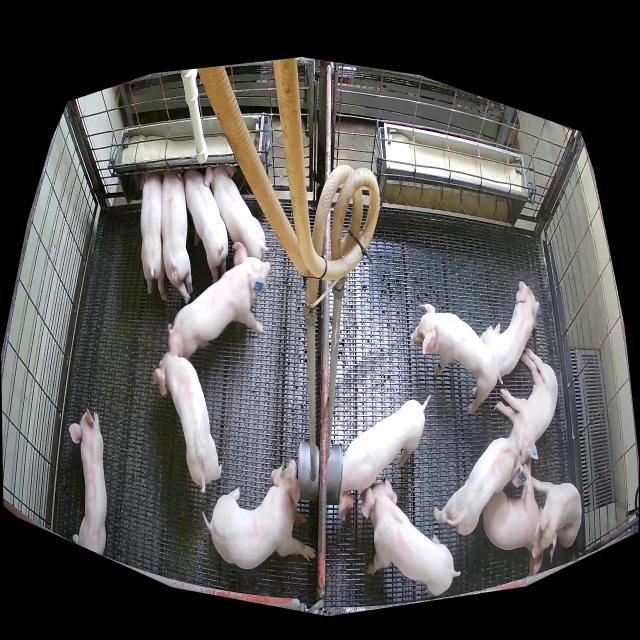pig: (202, 460, 316, 569), (360, 479, 460, 599), (168, 242, 271, 356), (338, 396, 430, 519), (152, 332, 222, 493), (411, 304, 503, 414), (433, 438, 528, 536), (494, 348, 558, 461), (482, 461, 543, 575), (204, 165, 269, 260), (480, 280, 541, 378), (177, 169, 228, 283), (69, 407, 107, 554), (532, 476, 582, 563), (161, 169, 193, 301), (140, 173, 168, 301)
